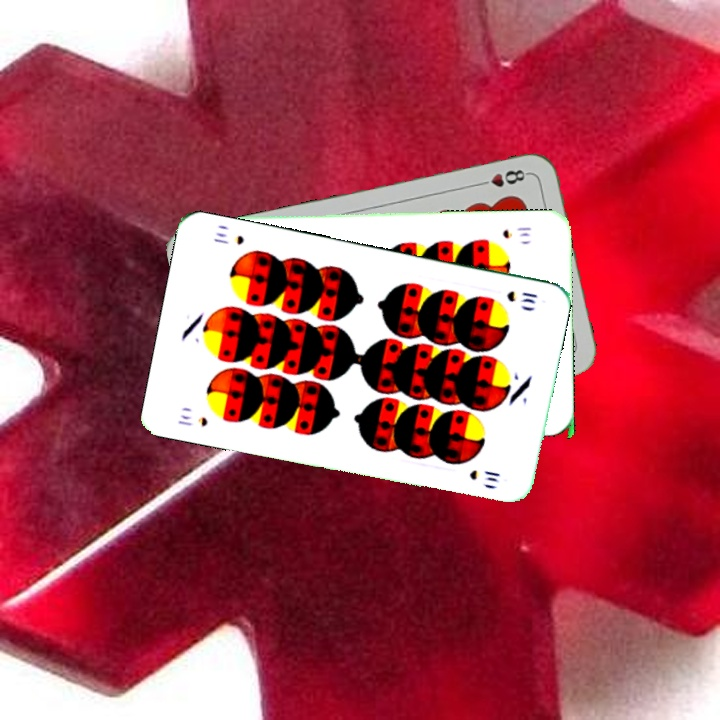H8: (473, 165, 532, 190)
S10: (502, 287, 540, 307), (174, 410, 210, 429), (498, 223, 534, 241)
